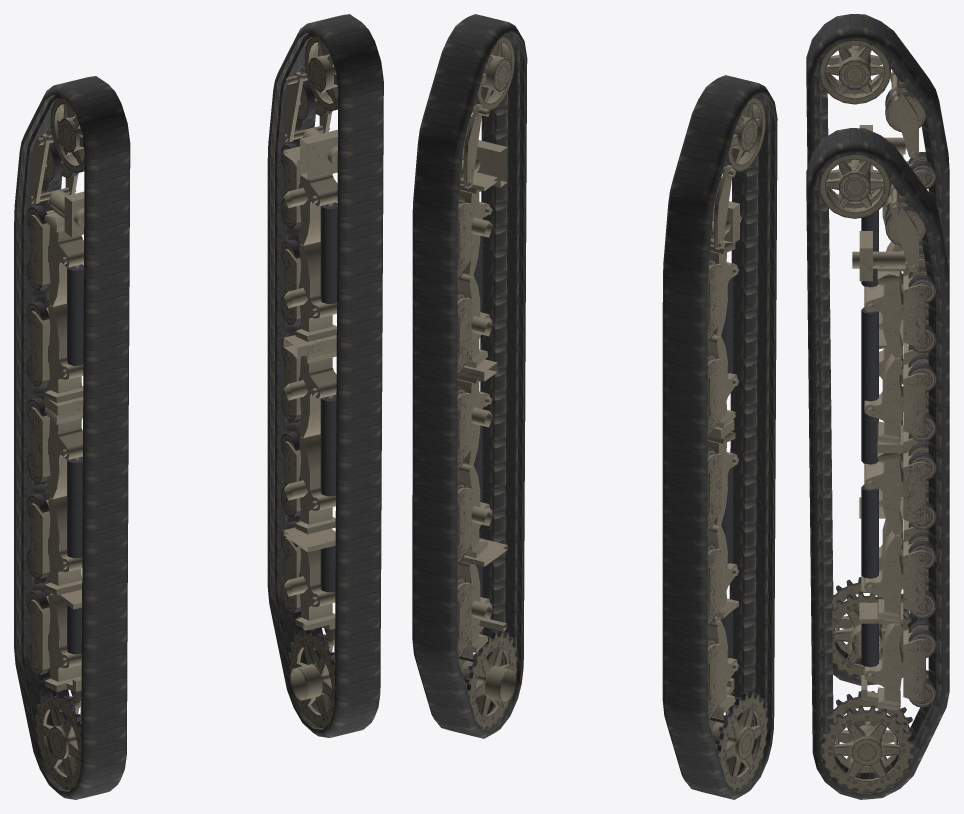
File: Chassis.glb
3 views of the same model, side by side, from view 1: azimuth 30°, elevation 25°; view 2: azimuth 150°, elevation 25°; view 3: azimuth 270°, elevation 25° (orthographic). The views are drawn at different scales.
Visible parts, largest first — view 1: set_1_group_0, set_0_group_0, set_5_group_0, set_3_group_0, set_2_group_0, set_4_group_0; view 2: set_1_group_0, set_0_group_0, set_5_group_0, set_3_group_0, set_4_group_0, set_2_group_0; view 3: set_5_group_0, set_0_group_0, set_3_group_0, set_1_group_0, set_4_group_0.
Part boxes in pixels (<box>): set_1_group_0: <box>14,76,130,799</box>; set_0_group_0: <box>267,14,383,737</box>; set_5_group_0: <box>281,36,338,728</box>; set_3_group_0: <box>27,98,84,790</box>; set_2_group_0: <box>28,596,49,669</box>; set_4_group_0: <box>282,538,300,607</box>; set_1_group_0: <box>662,75,777,799</box>; set_0_group_0: <box>412,14,527,738</box>; set_5_group_0: <box>457,36,517,729</box>; set_3_group_0: <box>708,97,767,790</box>; set_4_group_0: <box>457,582,471,652</box>; set_2_group_0: <box>708,643,721,713</box>; set_5_group_0: <box>819,154,936,792</box>; set_0_group_0: <box>806,128,949,799</box>; set_3_group_0: <box>819,40,935,677</box>; set_1_group_0: <box>806,14,949,685</box>; set_4_group_0: <box>903,629,929,702</box>.
Size of the model in its own units: 2.47 by 5.58 by 1.1.
6 materials, 6 textured.
